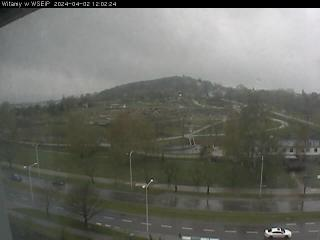car: (263, 226, 292, 240), (51, 178, 66, 188), (9, 173, 23, 183)
